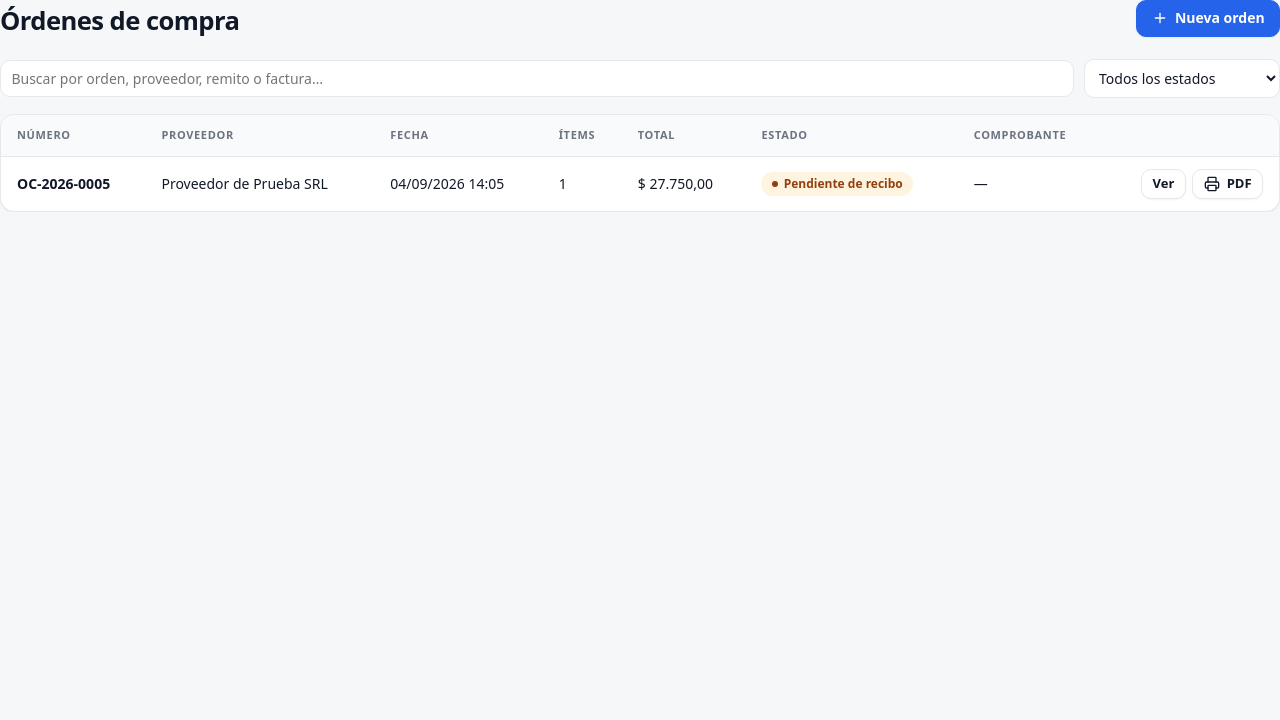
Test case: OrdenesCompraPage — comprar equipos y herramientas › el alta ofrece cargar un equipo aparte del paniol
Click the button "Nueva orden". click: coordinates (1208, 18)
box: x1=1136 y1=0 x2=1279 y2=37
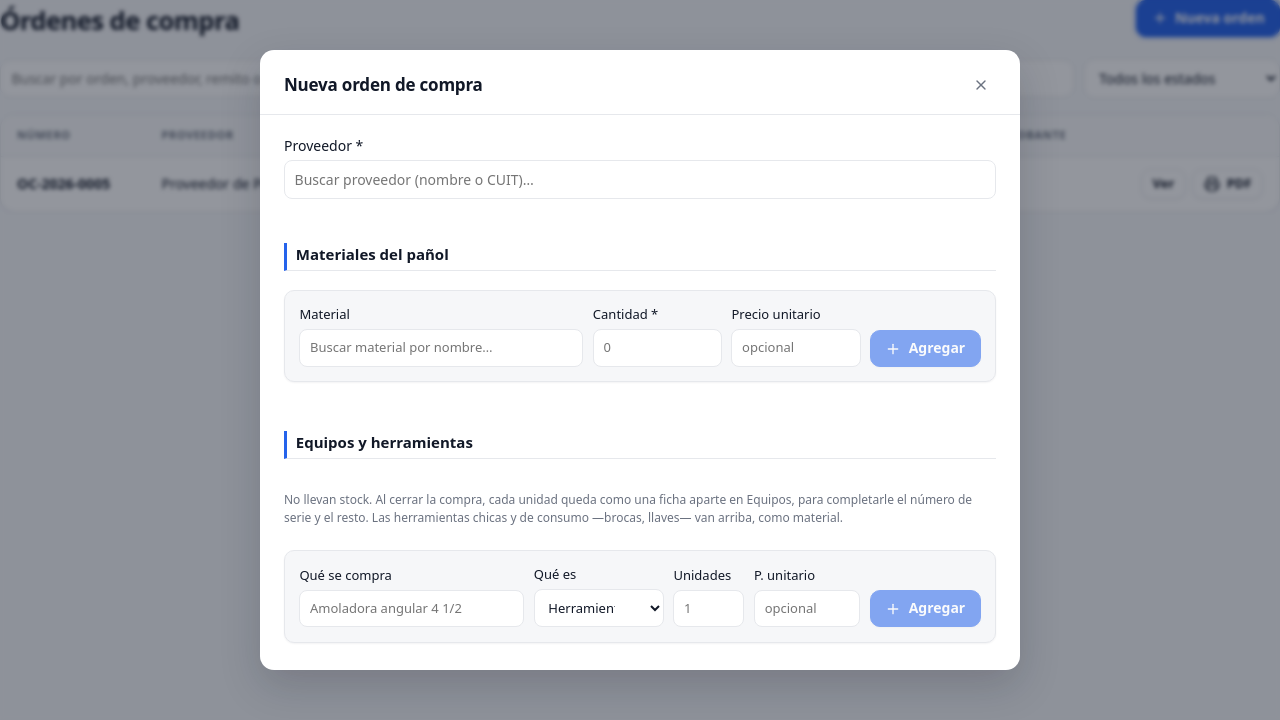
Expected: the heading "Nueva orden de compra" is shown, x1=284 y1=72 x2=483 y2=98
Expected: the heading "Equipos y herramientas" is shown, x1=284 y1=431 x2=996 y2=459
Expected: the field with placeholder "Amoladora angular 4 1/2" is shown, x1=299 y1=590 x2=524 y2=627
